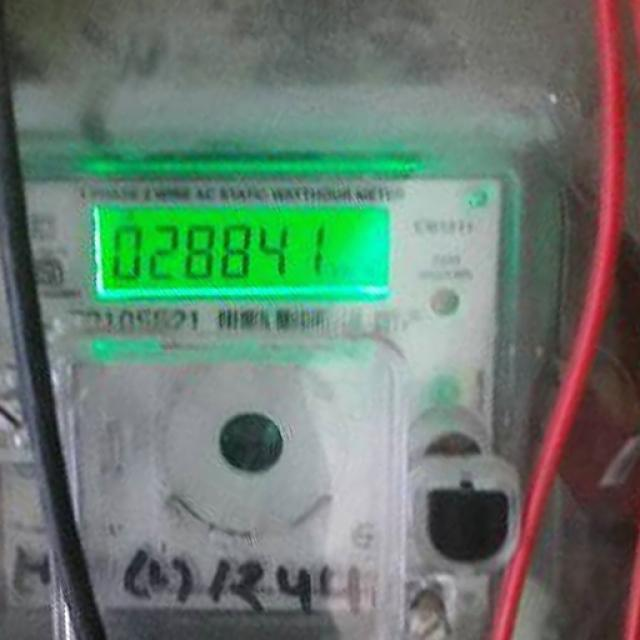display: (96, 204, 392, 298)
frame: (108, 215, 334, 284)
gauge: (0, 83, 581, 640)
